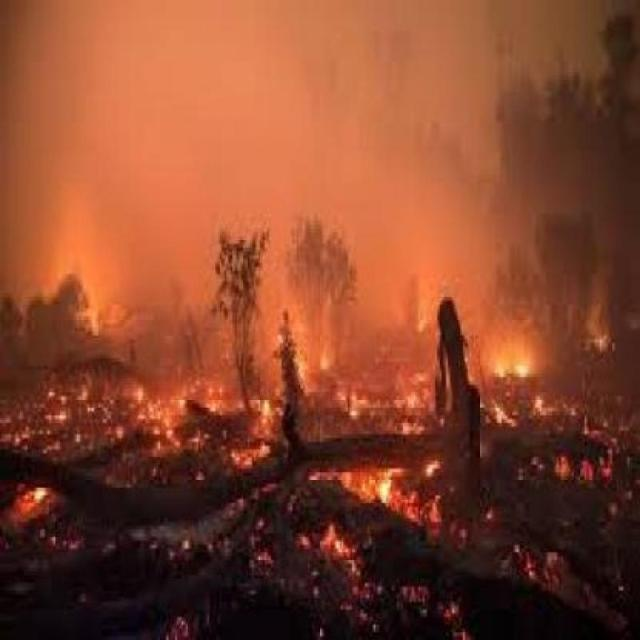Fire: (0, 138, 618, 638)
